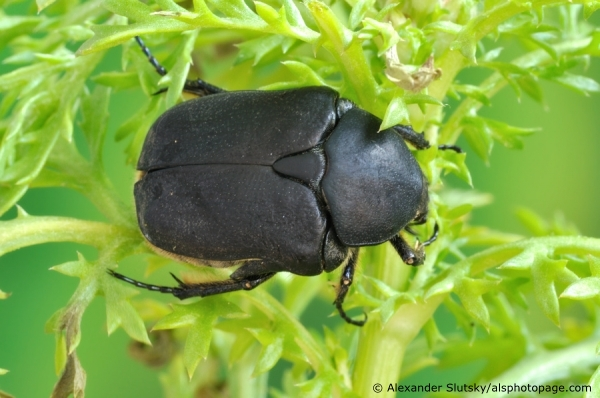Protaetia_afflicta: (102, 28, 466, 340)
